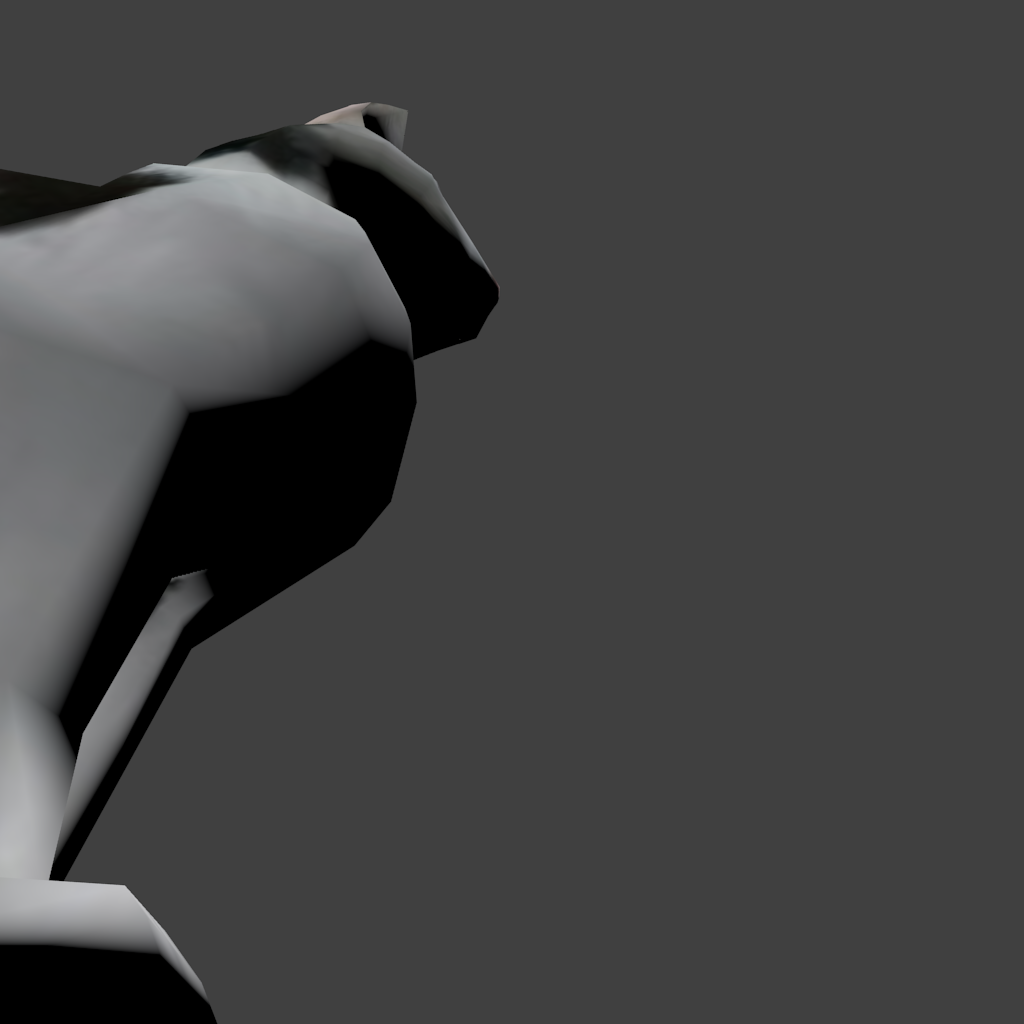Cat: (0, 102, 500, 922)
